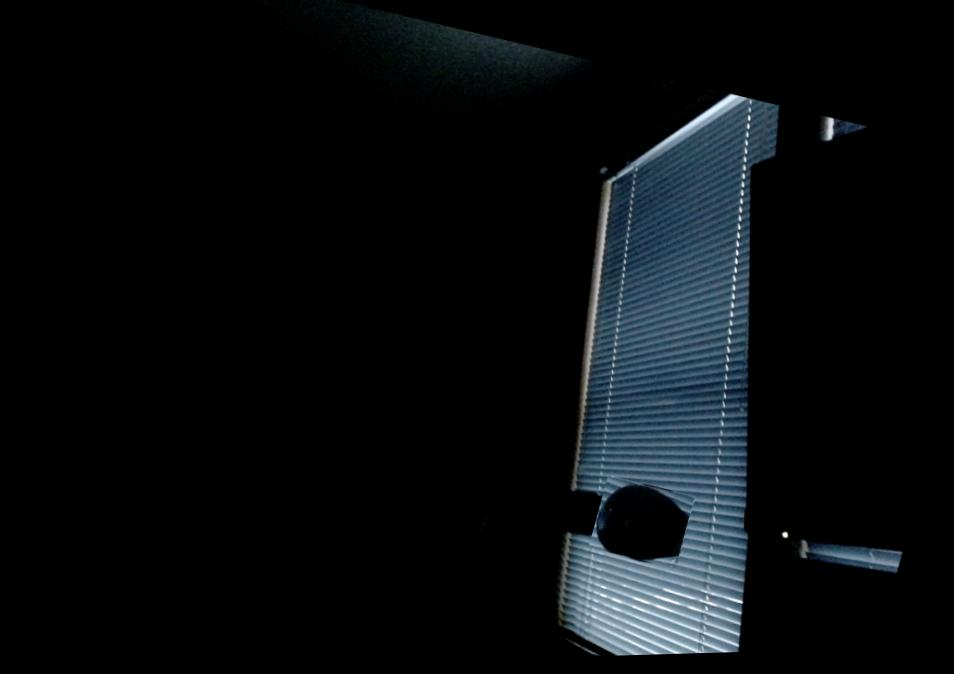Fan: (588, 476, 696, 573)
